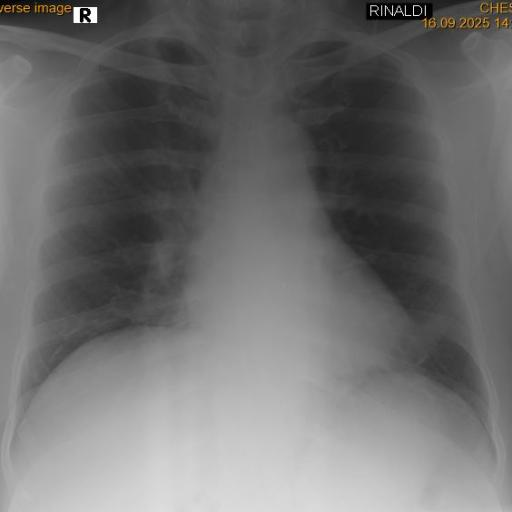kardiomegali: (7, 18, 508, 466)
